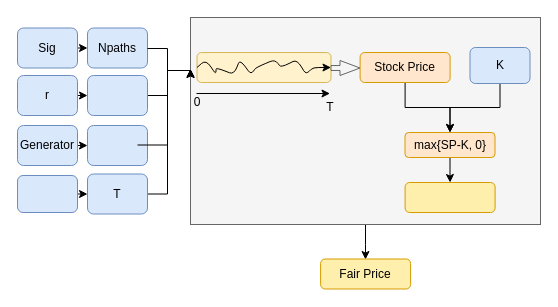
Some shapes in this 558 by 307 pixel diagram are drawn without their labels. The shapes that lost their labels are listed below. From the top down, each one's centre as x and y in pixels, then its label:
At point 117,95: "Nsteps".
At point 117,145: "S0".
At point 47,193: "Method".
At point 449,197: "Sum".
